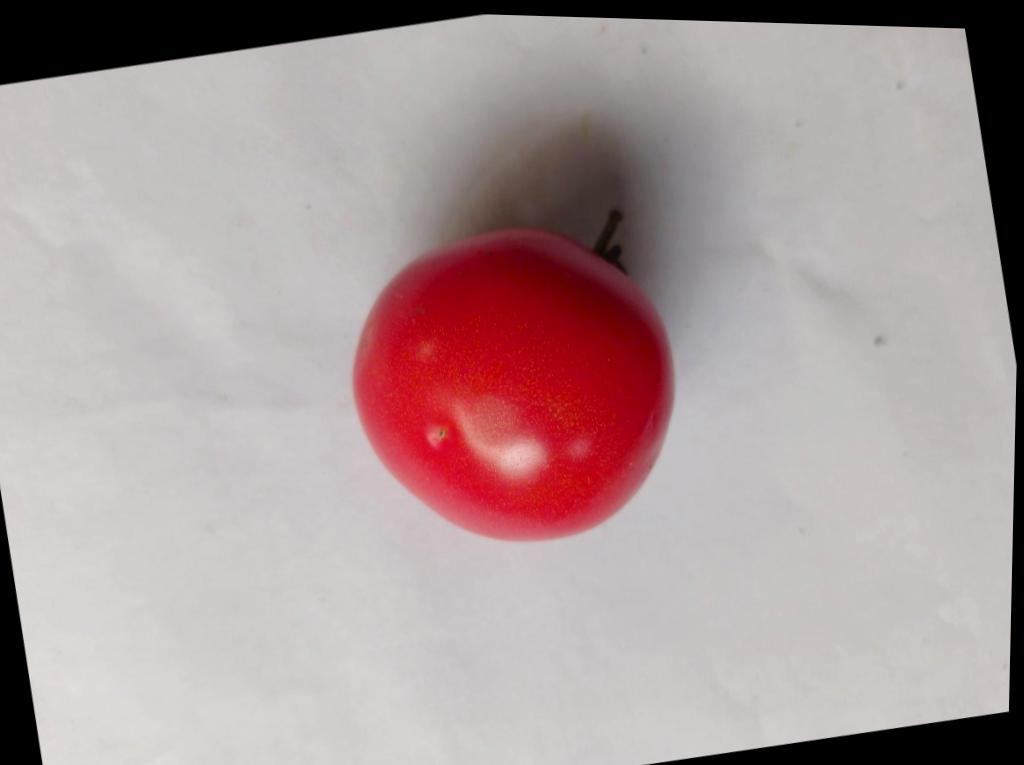tomato: (354, 209, 673, 540)
